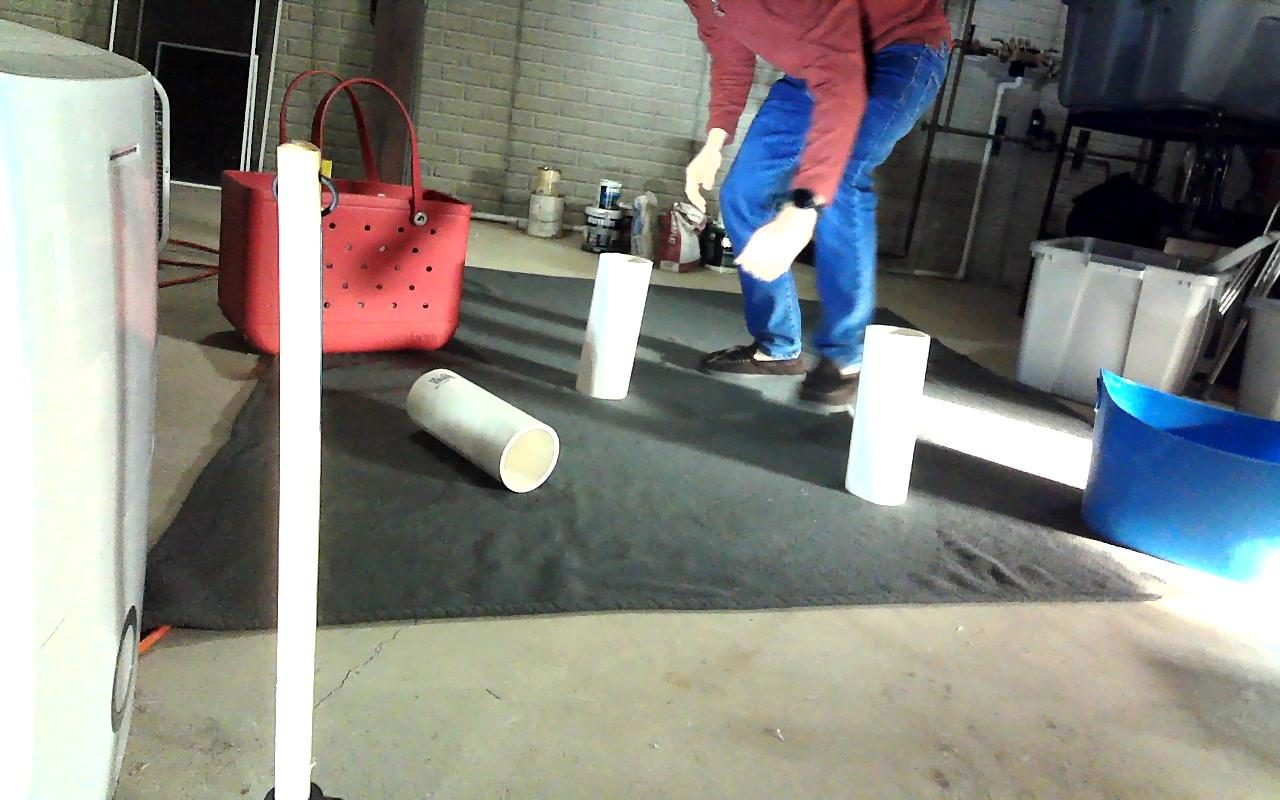coral: (405, 368, 558, 492), (844, 323, 930, 505), (584, 251, 650, 398)
